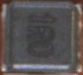Induktor: (2, 0, 80, 72)
